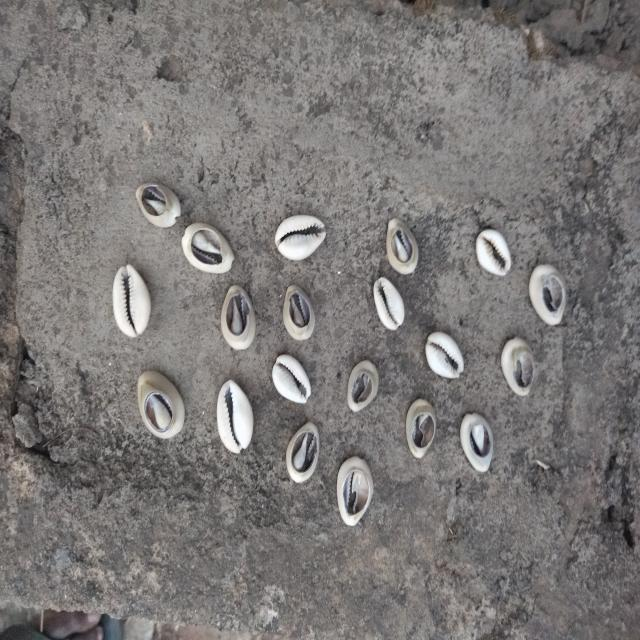facedown: (133, 367, 190, 441), (179, 218, 239, 277), (331, 454, 375, 529), (525, 260, 571, 331), (218, 282, 260, 358), (454, 408, 499, 478), (130, 178, 186, 232), (495, 333, 539, 400), (284, 421, 324, 490), (383, 212, 424, 278), (280, 279, 319, 344), (404, 395, 439, 465), (345, 353, 383, 415)
faceup: (213, 375, 257, 465), (112, 263, 155, 342), (269, 214, 331, 265), (270, 350, 315, 407), (422, 328, 467, 384), (371, 275, 409, 335), (474, 225, 515, 279)
